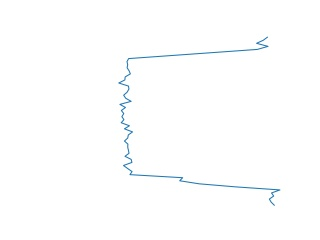distributaryChannelFill: (116, 36, 286, 206)
